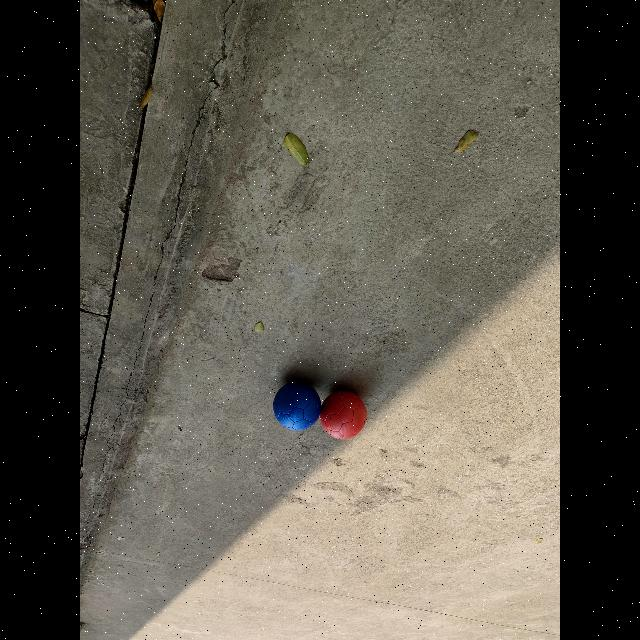B: (273, 382, 321, 431)
R: (320, 391, 367, 439)
